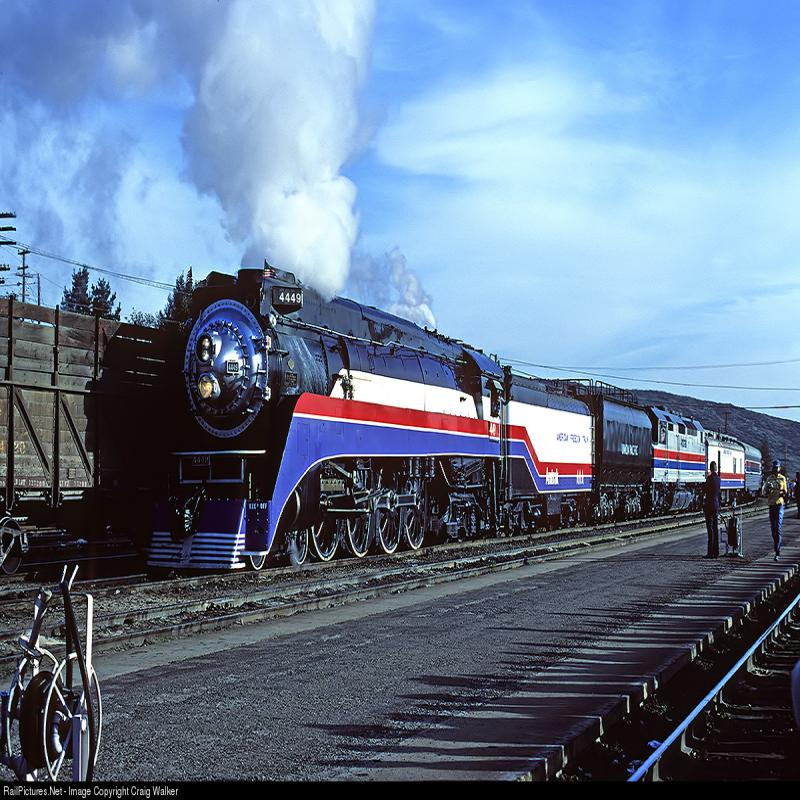train: (150, 244, 652, 574)
